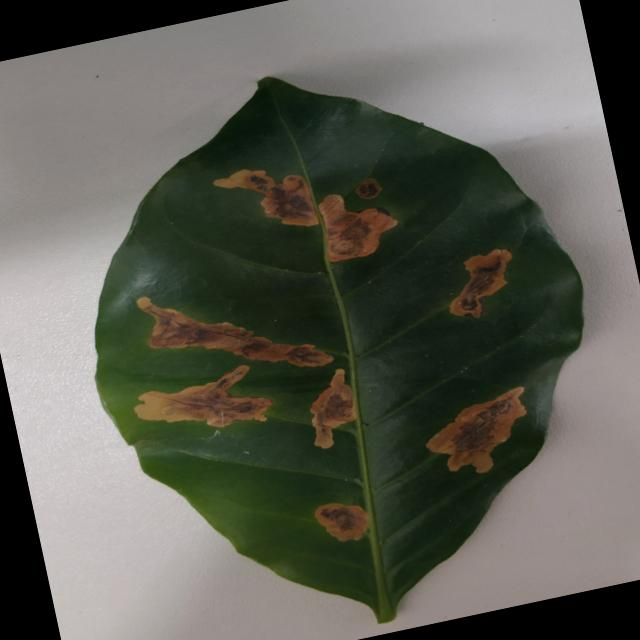PengorokDaunKopi: (137, 296, 333, 366), (426, 386, 526, 473), (134, 365, 273, 426), (214, 169, 319, 225), (318, 194, 397, 261), (449, 249, 511, 317), (310, 368, 356, 448), (315, 503, 369, 540), (356, 178, 381, 198)
